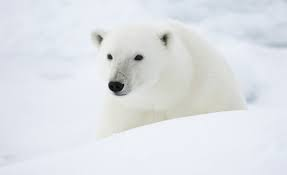PolarBear: (74, 16, 250, 121)
